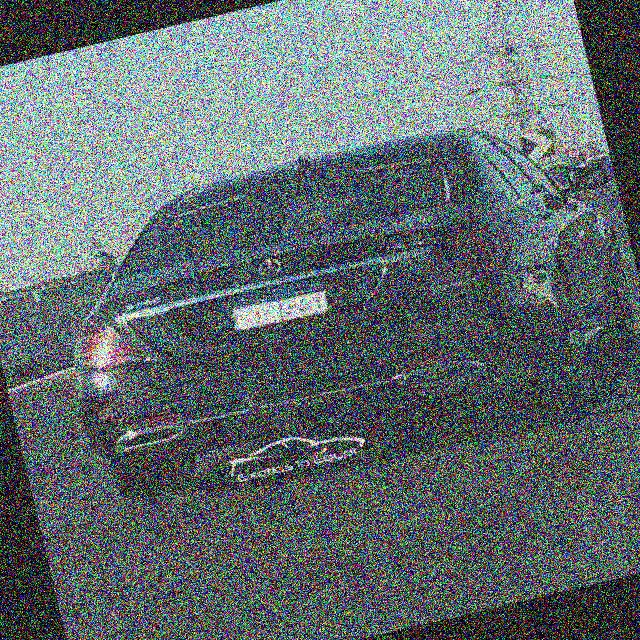License Plate: (222, 272, 335, 337)
